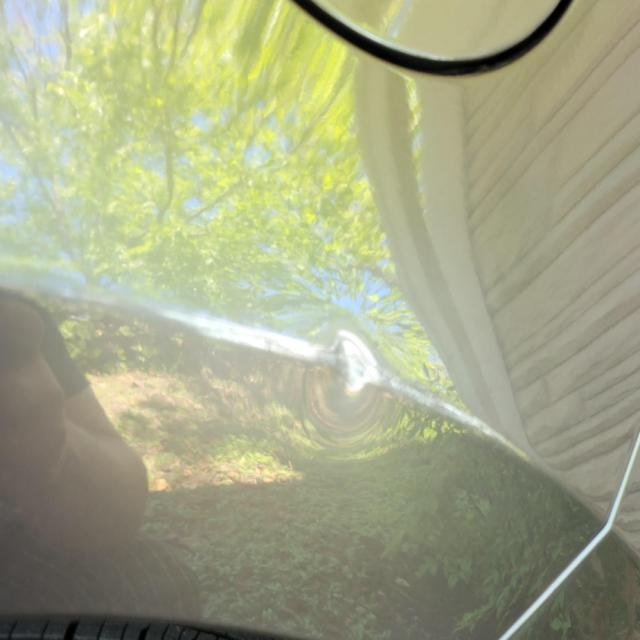dents: (290, 302, 464, 480)
